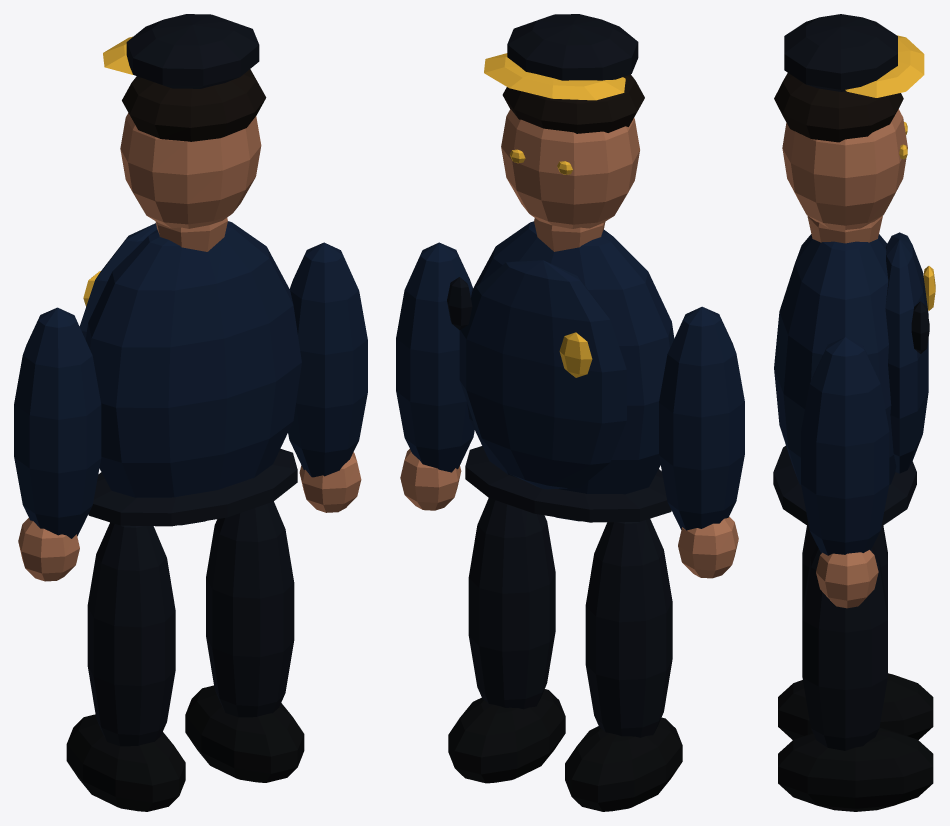
File: officer.obj
3 renders of one model, left to right at view 1: azimuth 30°, elevation 25°; view 2: azimuth 150°, elevation 25°; view 3: azimuth 270°, elevation 25°, orthographic. The views are drawn at different scales.
Visible parts, largest first — view 1: torso, left_leg, right_leg, left_arm, right_arm, head, cap_crown, left_boot, right_boot, hair, belt, left_hand (+4 smaller); view 2: vest_front, left_leg, torso, right_leg, left_arm, right_arm, head, left_boot, right_boot, cap_crown, belt, hair (+6 smaller); view 3: right_arm, torso, right_leg, head, right_boot, vest_front, cap_crown, hair, left_boot, right_hand, belt, cap_brim (+4 smaller).
Boxes of the visible parts, x1=… form: torso: x1=85, y1=221, x2=301, y2=525; left_leg: x1=87, y1=522, x2=175, y2=746; right_leg: x1=206, y1=501, x2=294, y2=717; left_arm: x1=14, y1=307, x2=101, y2=538; right_arm: x1=288, y1=242, x2=367, y2=477; head: x1=120, y1=113, x2=261, y2=228; cap_crown: x1=126, y1=14, x2=259, y2=88; left_boot: x1=66, y1=714, x2=185, y2=811; right_boot: x1=185, y1=685, x2=304, y2=782; hair: x1=122, y1=69, x2=266, y2=141; belt: x1=88, y1=449, x2=297, y2=526; left_hand: x1=18, y1=518, x2=79, y2=581; vest_front: x1=459, y1=260, x2=626, y2=489; left_leg: x1=585, y1=518, x2=672, y2=737; torso: x1=467, y1=221, x2=674, y2=521; right_leg: x1=468, y1=498, x2=555, y2=709; left_arm: x1=659, y1=306, x2=744, y2=530; right_arm: x1=396, y1=242, x2=474, y2=472; head: x1=501, y1=109, x2=639, y2=228; left_boot: x1=565, y1=717, x2=682, y2=811; right_boot: x1=448, y1=689, x2=565, y2=783; cap_crown: x1=507, y1=14, x2=638, y2=80; belt: x1=465, y1=446, x2=671, y2=522; hair: x1=502, y1=74, x2=644, y2=133; right_arm: x1=801, y1=337, x2=889, y2=555; torso: x1=774, y1=234, x2=896, y2=484; right_leg: x1=802, y1=545, x2=887, y2=750; head: x1=782, y1=109, x2=907, y2=229; right_boot: x1=778, y1=728, x2=933, y2=811; vest_front: x1=885, y1=232, x2=928, y2=473; cap_crown: x1=784, y1=14, x2=897, y2=91; hair: x1=774, y1=73, x2=903, y2=142; left_boot: x1=778, y1=673, x2=933, y2=739; right_hand: x1=816, y1=550, x2=878, y2=608; belt: x1=773, y1=445, x2=916, y2=526; cap_brim: x1=845, y1=35, x2=924, y2=97.
Bounding box in the file's own units: 0.9186 × 1.98 × 0.3868.
